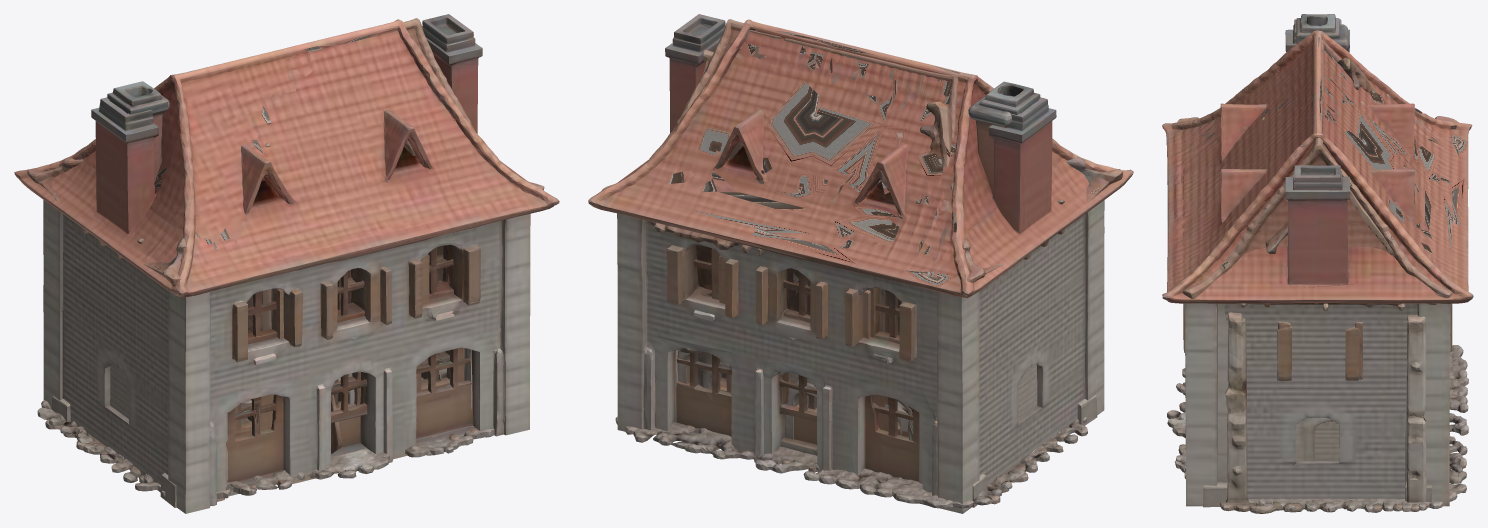
Rendered from fr_shop_house_1_states.glb.
The picture shows the model from 3 angles, left to right: view 1: azimuth 30°, elevation 25°; view 2: azimuth 150°, elevation 25°; view 3: azimuth 270°, elevation 25°; orthographic projection. The views are drawn at different scales.
Visible parts, largest first — view 1: House_0_undam, House_1, House_3_heavy, House_2; view 2: House_0_undam, House_1, House_3_heavy, House_2; view 3: House_0_undam, House_1, House_2, House_3_heavy.
Boxes of the visible parts, x1,y1,x2,y2 form: House_0_undam: (14,14,559,513); House_1: (27,18,544,507); House_3_heavy: (37,361,494,498); House_2: (45,95,477,495); House_0_undam: (588,14,1133,513); House_1: (602,19,1122,507); House_3_heavy: (615,348,1087,508); House_2: (647,50,1067,504); House_0_undam: (1162,19,1473,506); House_1: (1177,14,1458,507); House_2: (1183,24,1436,513); House_3_heavy: (1167,345,1468,512).
Size of the model in its own units: 1 by 0.9374 by 0.7627.
Materials: 4 (4 with a texture image).
